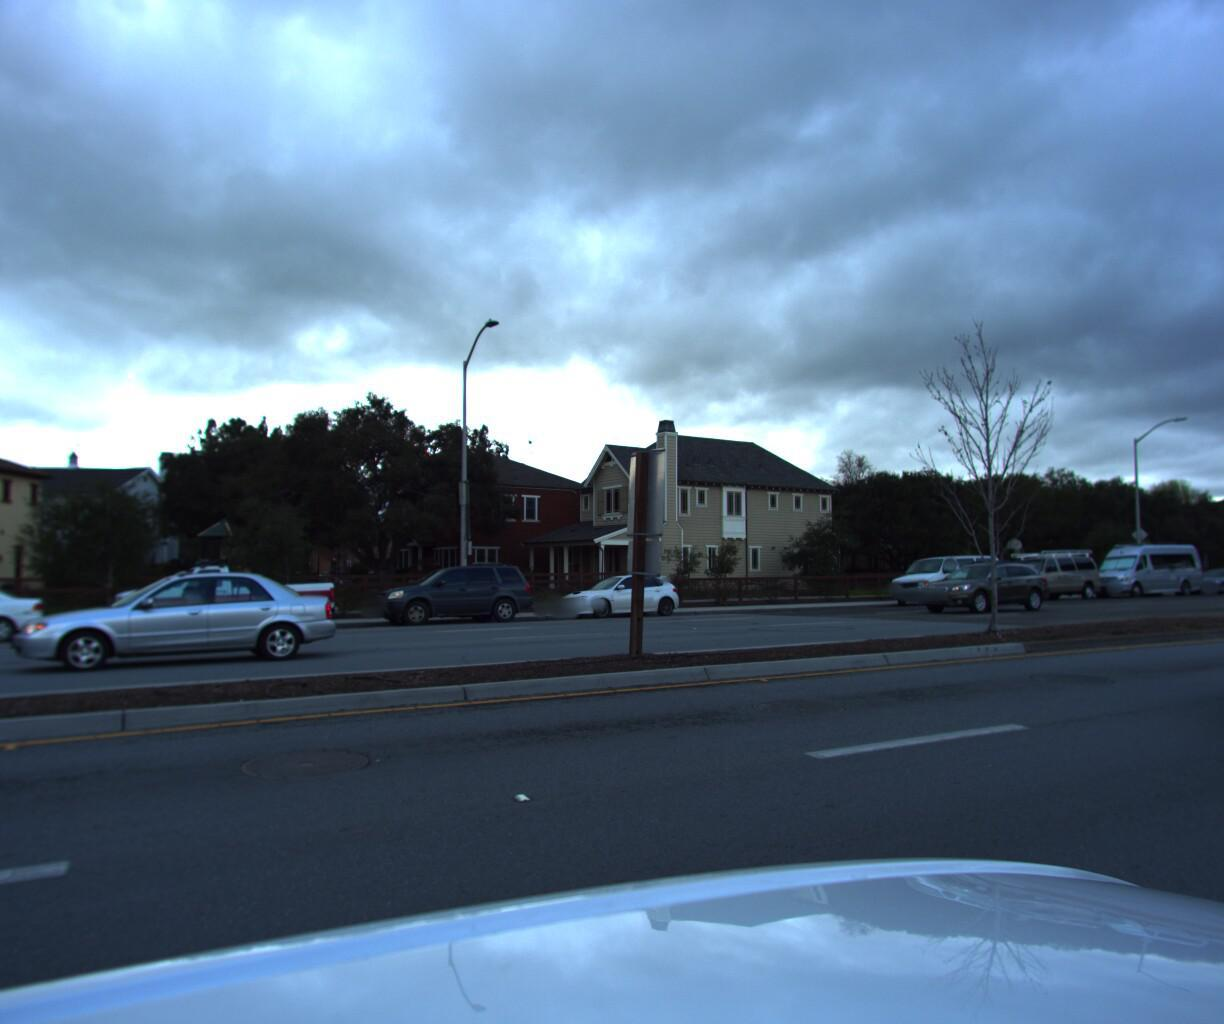car: (0, 562, 338, 680), (106, 551, 343, 639), (365, 559, 541, 627), (902, 555, 1056, 610), (1076, 533, 1206, 596), (547, 569, 690, 620), (879, 548, 1008, 602), (983, 541, 1103, 598), (1202, 553, 1224, 767), (0, 581, 54, 654), (1177, 561, 1224, 590)
